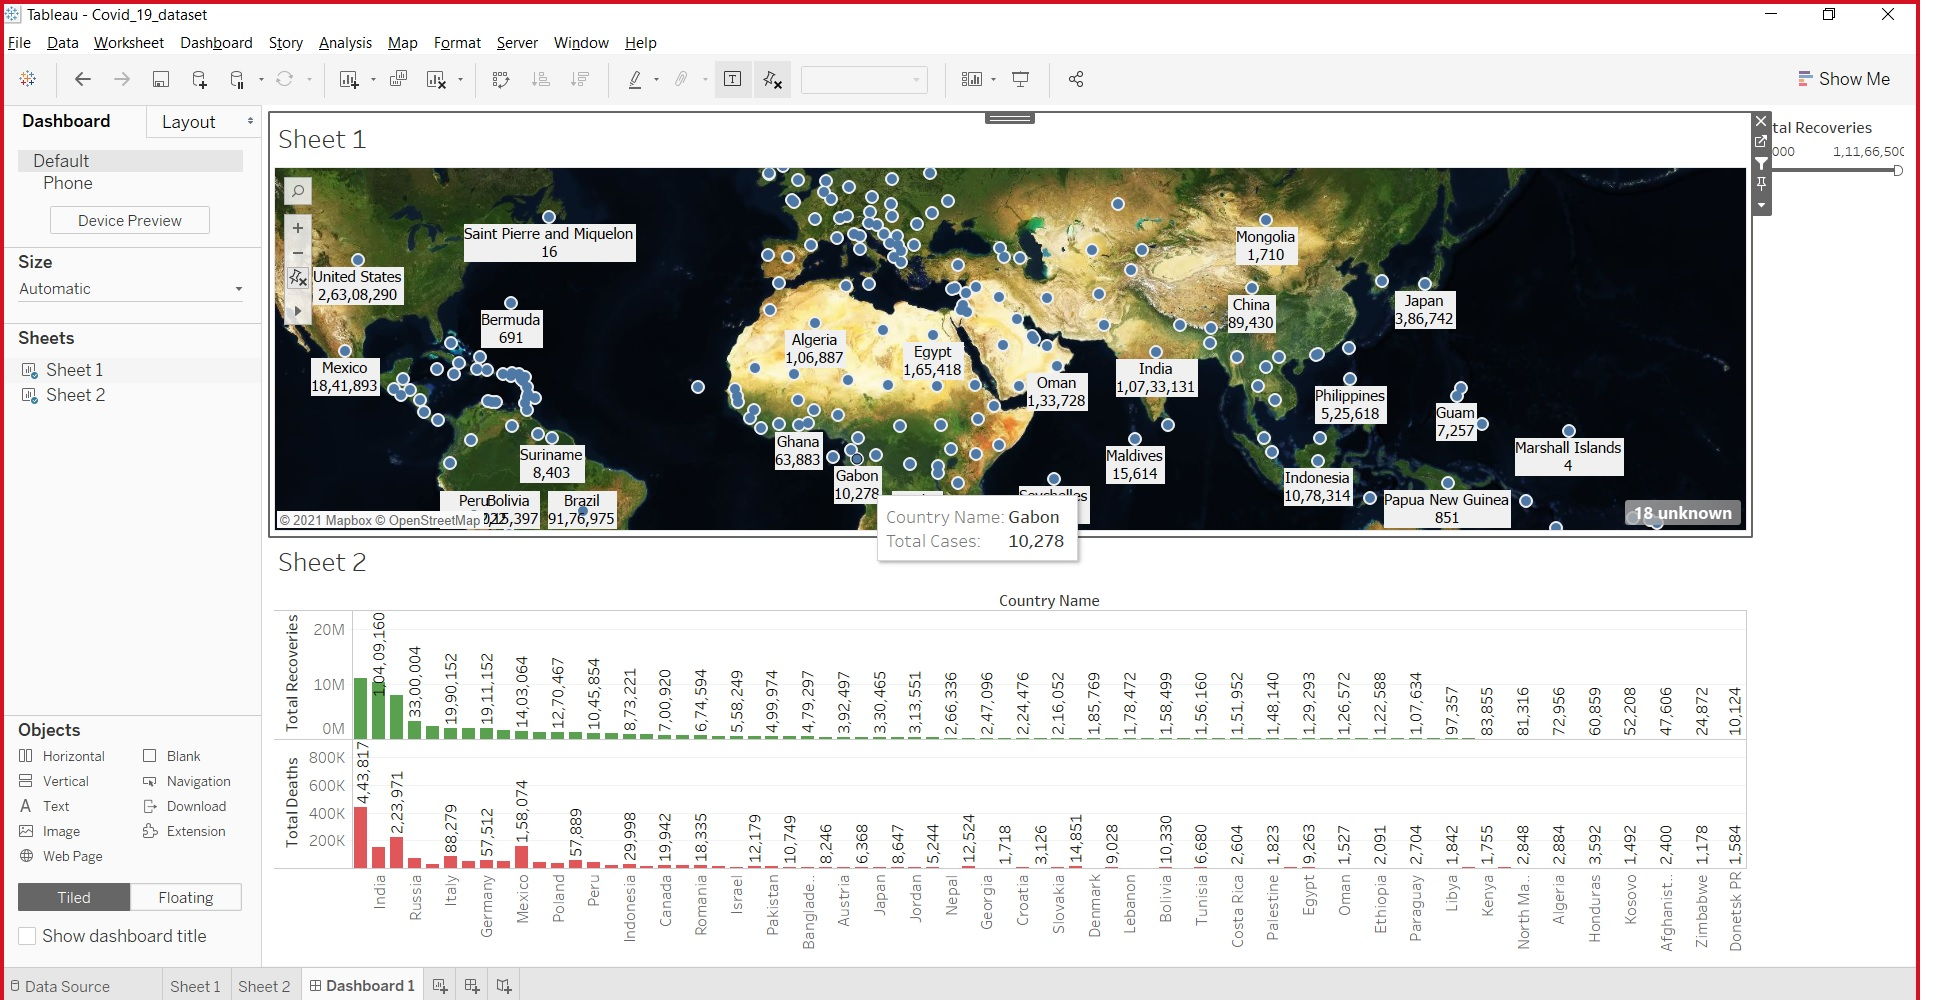

The dashboard page shown, as its layout file describes it:
{"tool":"tableau","page":{"name":"Dashboard 1","canvas":[1000,1000],"units":"permille","ordinal":0},"visuals":[{"type":"worksheet","box":[0,0,1000,1000]},{"type":"worksheet","param":"horz","box":[4.8,9.3,990.3,981.4]},{"type":"worksheet","box":[4.8,9.3,893.8,981.4]},{"type":"worksheet","param":"vert","box":[4.8,9.3,893.8,490.7]},{"type":"worksheet","title":"Sheet 1","mark":"Automatic","box":[4.8,9.3,893.8,490.7]},{"type":"worksheet","param":"vert","box":[898.6,9.3,96.6,981.4]},{"type":"worksheet","title":"Sheet 2","mark":"Automatic","rows":["Total Recoveries","Total Deaths"],"cols":["Country Name"],"param":"[federated.027w3qm17o2c1a13r0com08h2r9a].[sum:Total Recoveries:qk]","box":[898.6,9.3,96.6,84.8]},{"type":"worksheet","param":"vert","box":[4.8,500,893.8,490.7]},{"type":"worksheet","title":"Sheet 2","mark":"Automatic","rows":["Total Recoveries","Total Deaths"],"cols":["Country Name"],"box":[4.8,500,893.8,490.7]}]}

Visuals, with their boxes on the dashboard's canvas, which has no fixed pixel size, in thousandths of its width and height (x1, y1, x2, y2). These are canvas units, not pixel positions in the 1948x1000 screenshot, which may show the page scaled, cropped or inside an application window:
worksheet: <bbox>0, 0, 1000, 1000</bbox>
worksheet: <bbox>5, 9, 995, 991</bbox>
worksheet: <bbox>5, 9, 899, 991</bbox>
worksheet: <bbox>5, 9, 899, 500</bbox>
"Sheet 1" worksheet: <bbox>5, 9, 899, 500</bbox>
worksheet: <bbox>899, 9, 995, 991</bbox>
"Sheet 2" worksheet: <bbox>899, 9, 995, 94</bbox>
worksheet: <bbox>5, 500, 899, 991</bbox>
"Sheet 2" worksheet: <bbox>5, 500, 899, 991</bbox>
